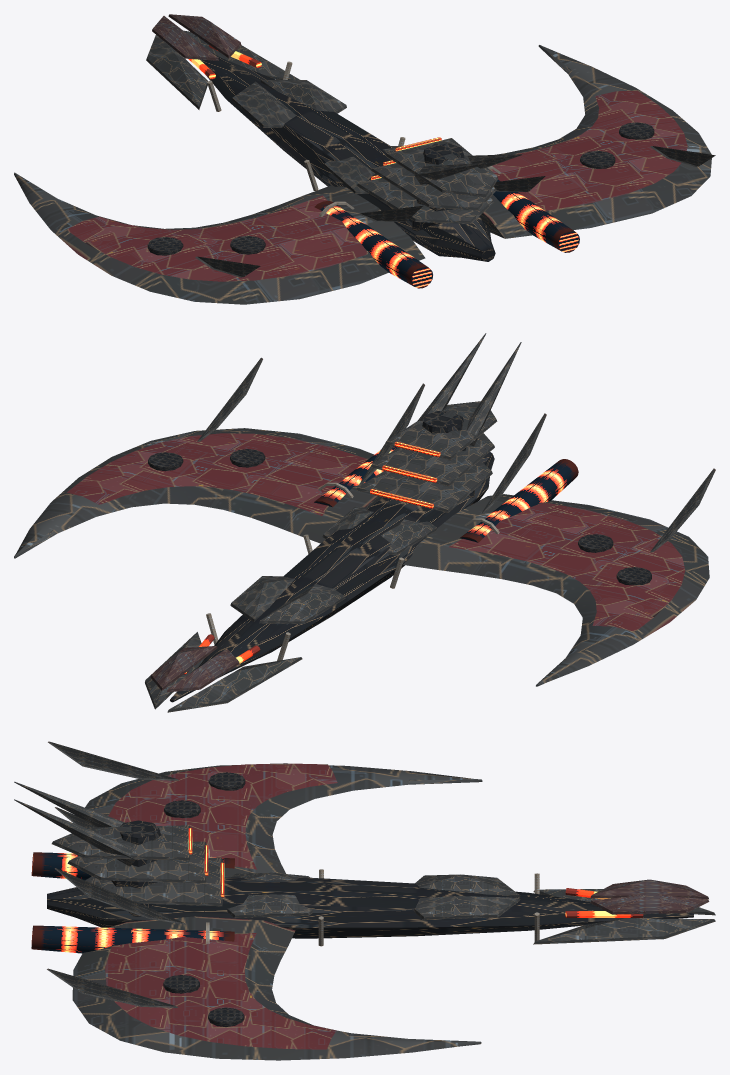
Rendered from dynasty_destroyer_far.glb.
The picture shows the model from 3 angles, top to bottom: view 1: azimuth 30°, elevation 25°; view 2: azimuth 150°, elevation 25°; view 3: azimuth 270°, elevation 25°; orthographic projection. The views are drawn at different scales.
Visible parts, largest first — view 1: dynasty_destroyer_far_source; view 2: dynasty_destroyer_far_source; view 3: dynasty_destroyer_far_source.
Part boxes in pixels (left/top/right/bottom): dynasty_destroyer_far_source: left=14, top=14, right=715, bottom=304; dynasty_destroyer_far_source: left=14, top=333, right=715, bottom=712; dynasty_destroyer_far_source: left=14, top=741, right=715, bottom=1060.
Size of the model in its own units: 1.9 by 0.4212 by 1.9.
1 material, 1 textured.
